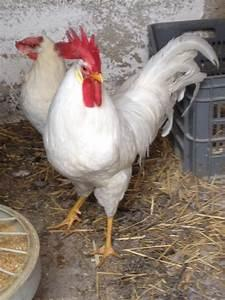hen: (15, 24, 219, 266)
